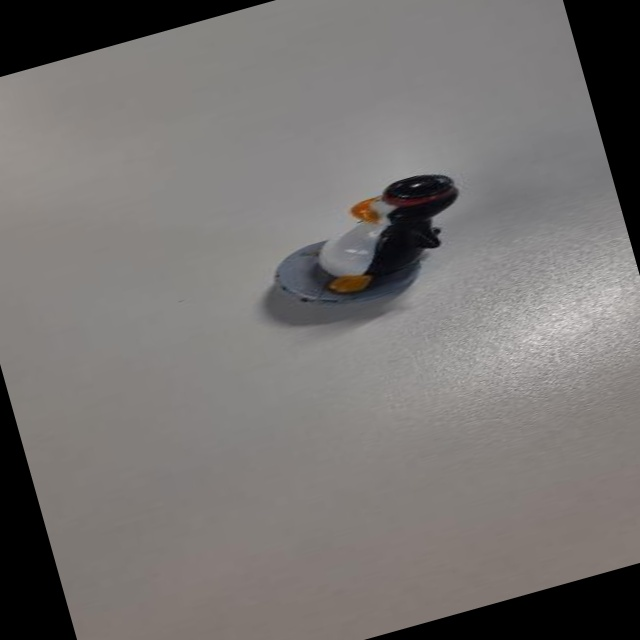Penguin: (234, 163, 491, 337)
